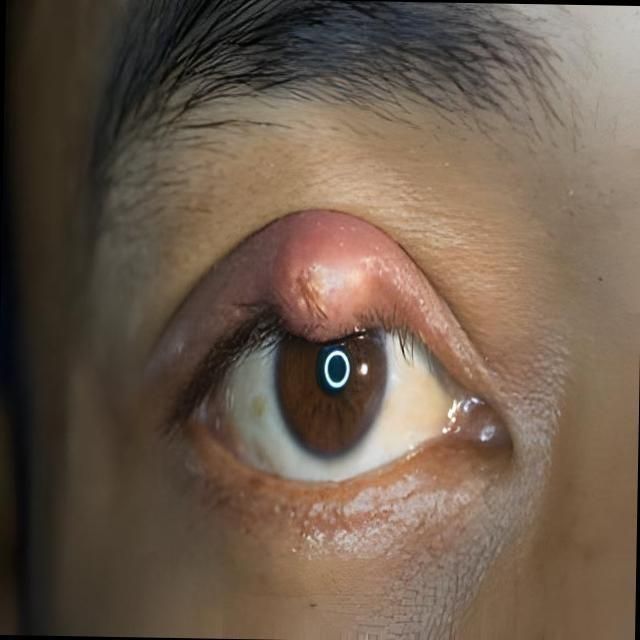Stye: (218, 175, 468, 394)
